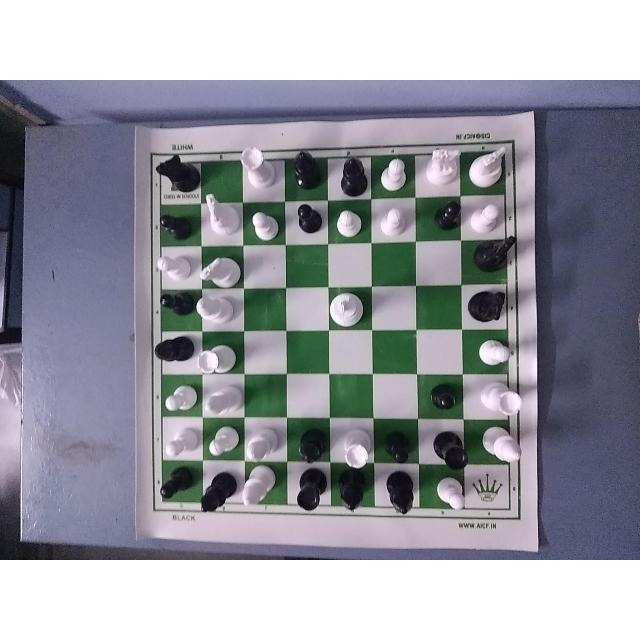black-bishop: (379, 466, 423, 522), (331, 464, 374, 518), (334, 145, 371, 201), (200, 470, 236, 518), (154, 329, 197, 368), (288, 144, 321, 193), (297, 428, 329, 464)
black-knight: (153, 149, 203, 199), (472, 227, 520, 274), (466, 286, 508, 325)
black-pawn: (384, 428, 420, 468), (159, 466, 199, 502), (430, 195, 465, 234), (293, 198, 324, 240), (157, 289, 197, 321), (156, 208, 195, 240), (428, 386, 459, 421)
black-rook: (429, 429, 473, 472), (290, 465, 327, 515)
white-bishop: (240, 468, 284, 511), (194, 293, 242, 331), (481, 426, 529, 464), (200, 379, 244, 419), (244, 423, 281, 465)
white-king: (327, 288, 371, 328)
white-knight: (422, 141, 466, 189), (468, 141, 508, 189), (199, 249, 243, 291), (200, 191, 239, 237)
white-pawn: (428, 478, 467, 514), (160, 380, 198, 416), (159, 424, 199, 458), (379, 152, 409, 196), (246, 203, 280, 240), (381, 202, 415, 238), (469, 198, 503, 233), (157, 249, 193, 281), (477, 342, 517, 370), (336, 204, 365, 240), (209, 421, 234, 460)
white-rook: (238, 141, 279, 195), (474, 377, 525, 415), (195, 339, 242, 377), (336, 424, 371, 468)
